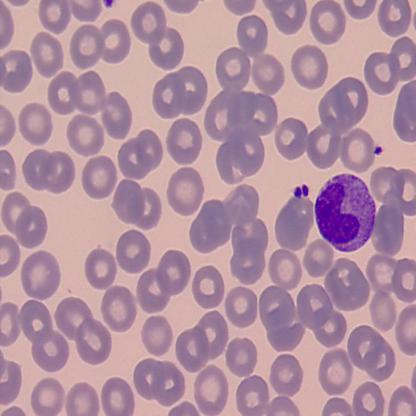Metamyelocyte: (313, 169, 378, 256)
